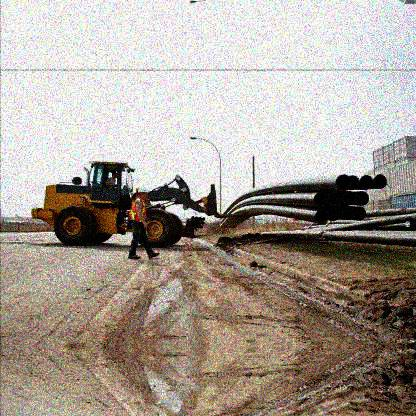helmet: (138, 187, 148, 200)
